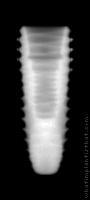Cowellmedi: (15, 25, 71, 177)
